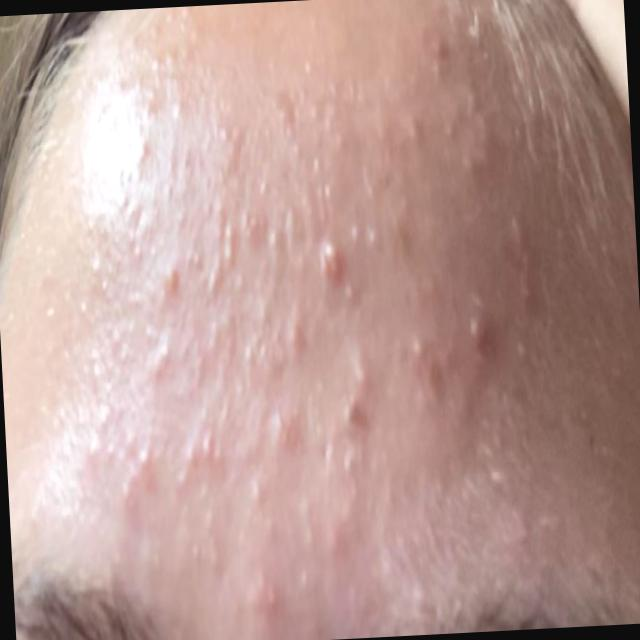fungal: (106, 41, 544, 546)
